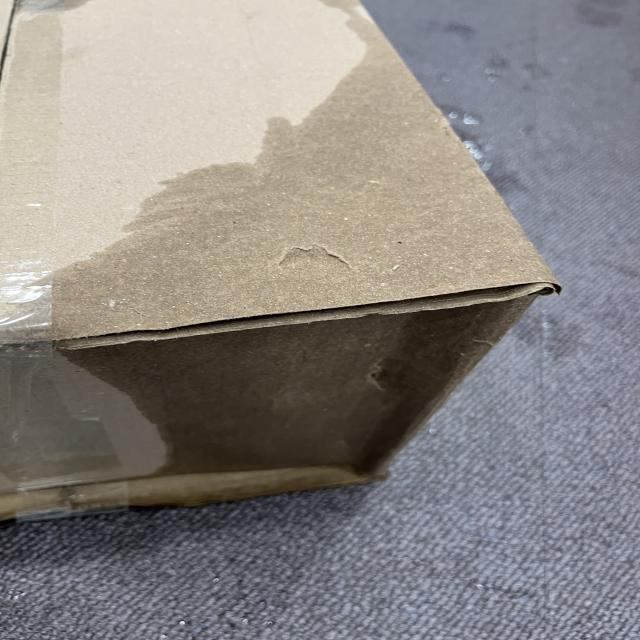wet: (46, 37, 558, 533)
